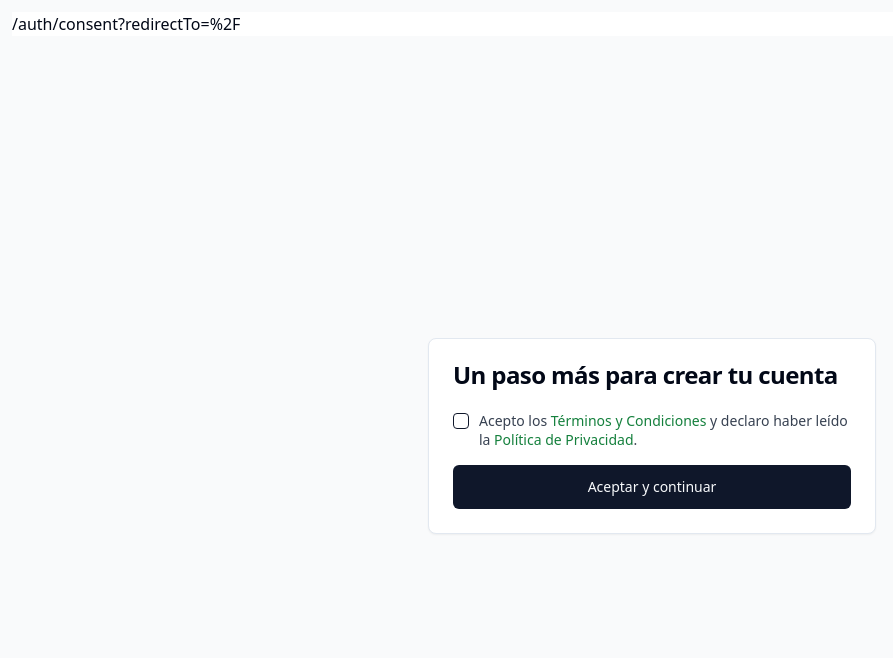
it: Reproducción del fallo de onboarding Google en producción › cuenta reportada (fila sin rol ni consent, destino /): consent → rol, jamás directo a /
Check: the heading "Un paso más para crear tu cuenta" is shown, box [453,363,851,387]
Click the checkbox: point(461, 421) [453,413,469,429]
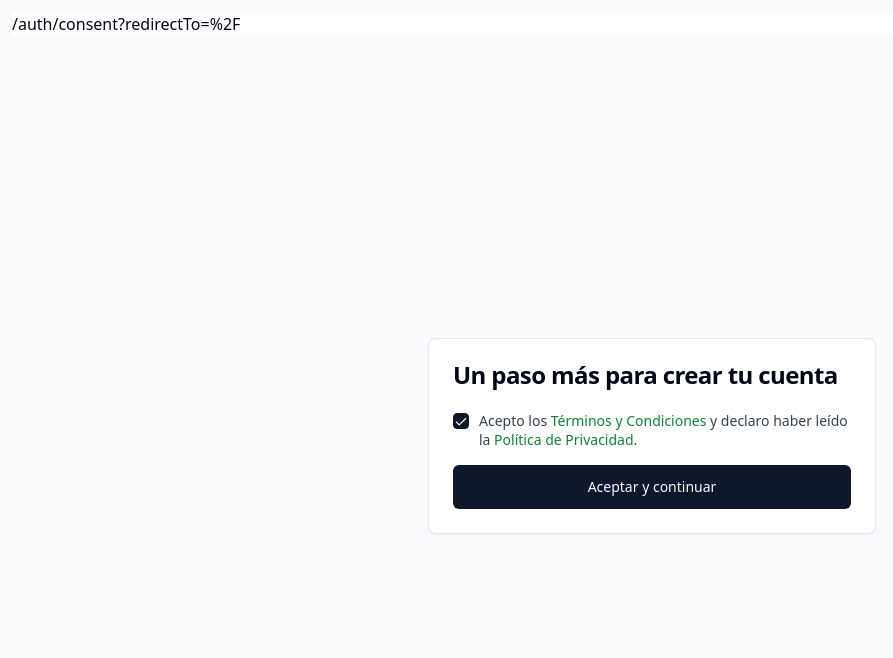
Click the button "Aceptar y continuar": point(652, 487) [453,465,851,509]
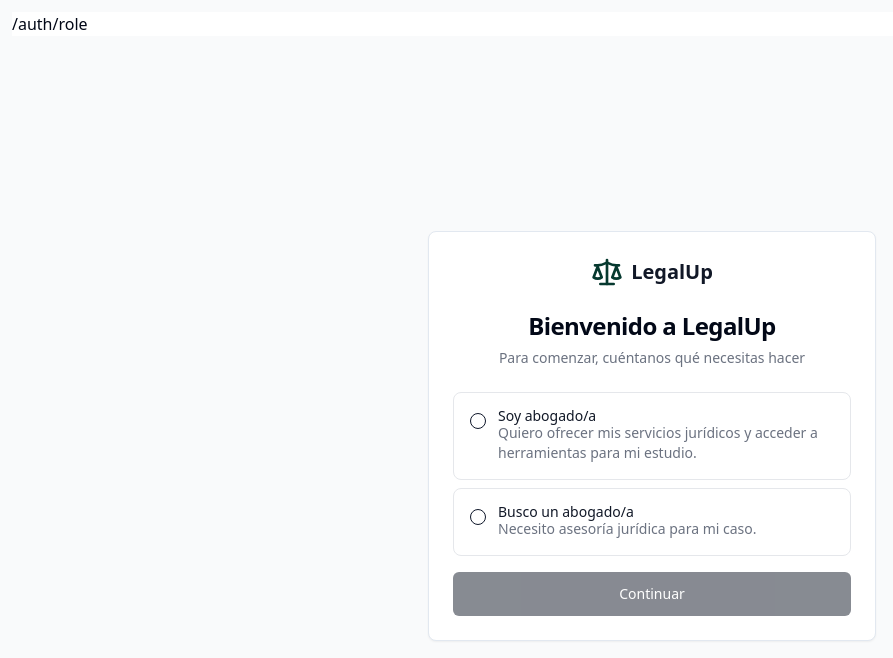
Check: the heading "Bienvenido a LegalUp" is shown, box [528,309,776,342]
Check: the text with test id "probe" reads "/auth/role", box [12,13,88,35]
Check: the element with test id "probe" no longer shows "/"
